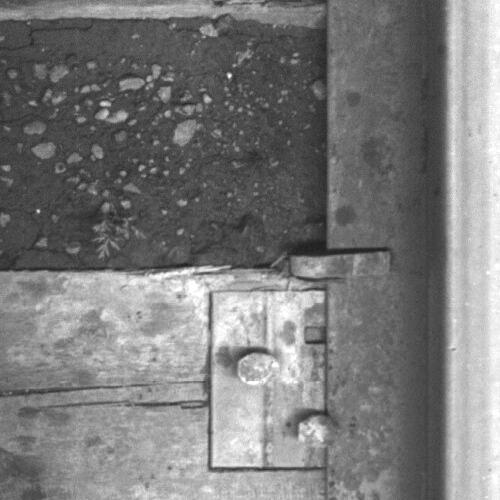crutch: (289, 248, 393, 280)
do: (211, 290, 343, 468)
rail: (445, 1, 500, 500)
tie_wood: (1, 271, 325, 500)
wood_crack: (1, 379, 208, 414)
